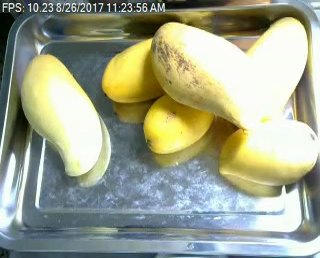Mango: (150, 22, 264, 126), (21, 56, 101, 176), (218, 121, 317, 187), (243, 16, 310, 109), (100, 35, 171, 102), (145, 93, 214, 150)
